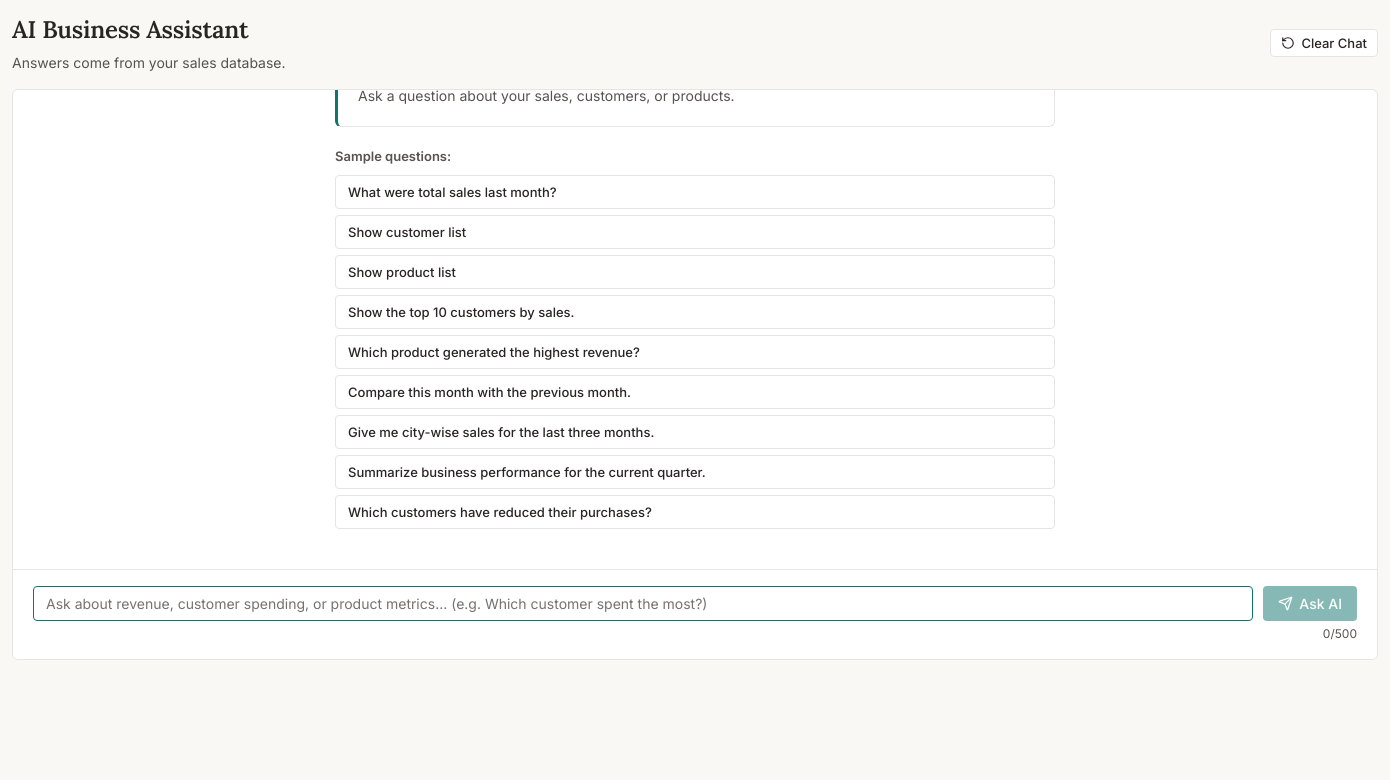
AIAssistant Page Component › submits a question via text input and displays grounded response with table and metrics
The width and height of the screenshot is (1390, 780).
(page scrolled)
Replace the text in the field with placeholder "Ask about revenue" with "Give me city-wise sales for the last three months." at [643, 604], box [33, 586, 1253, 621]
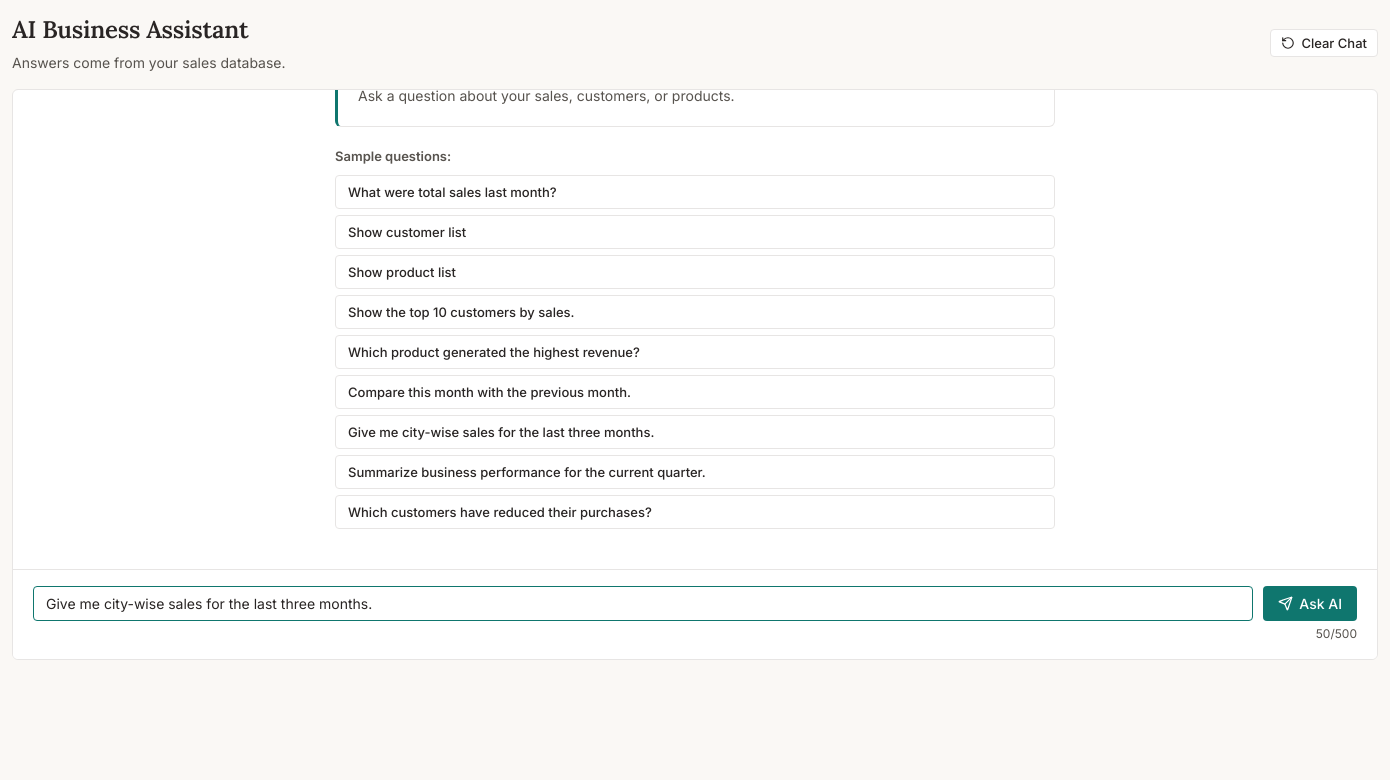
Click the button "Ask AI" at [1310, 604], box [1263, 586, 1357, 621]
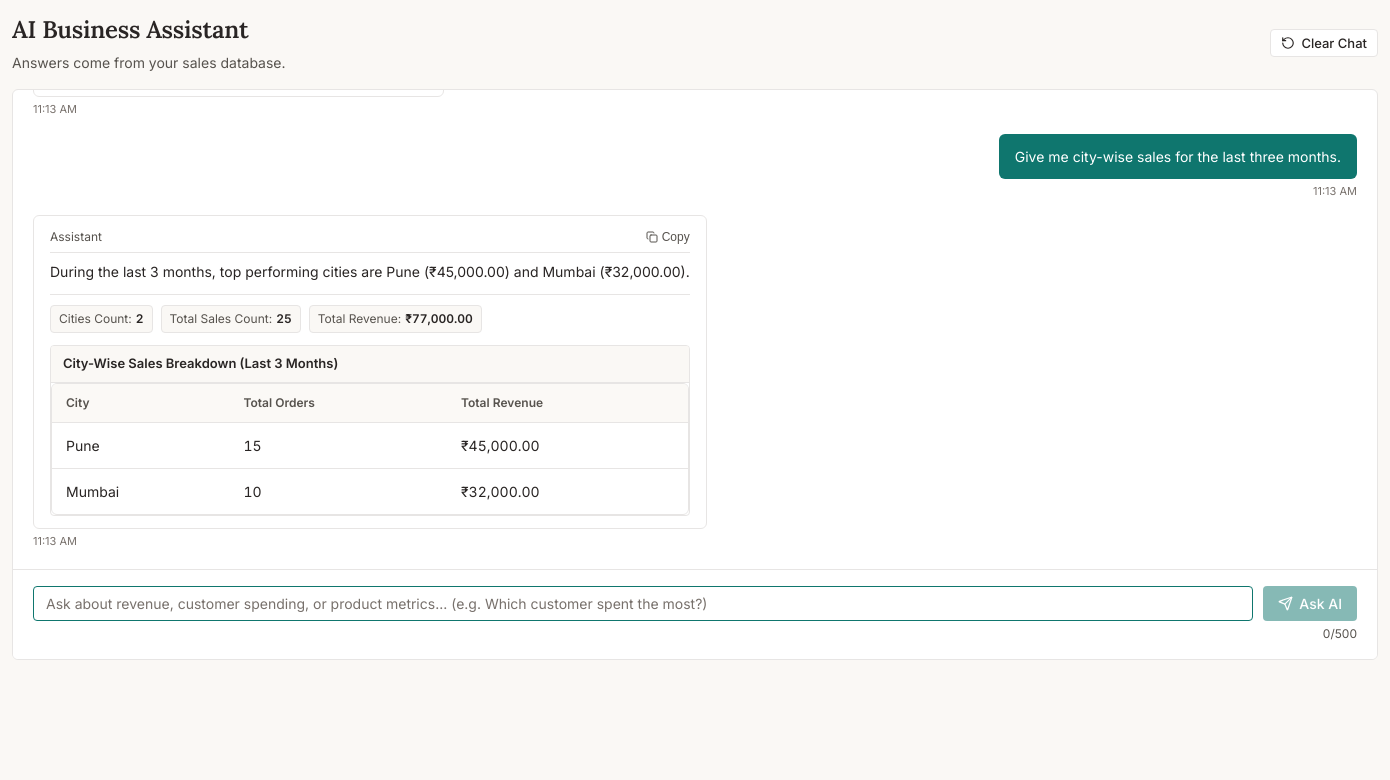
Result: the text "During the last 3 months, top performing cities are Pune (₹45,000.00) and Mumbai (₹32,000.00)." is shown at [50, 263, 690, 280]
Result: the text "City-Wise Sales Breakdown (Last 3 Months)" is shown at [51, 346, 689, 382]
Result: the text "Pune" is shown at [52, 422, 229, 468]
